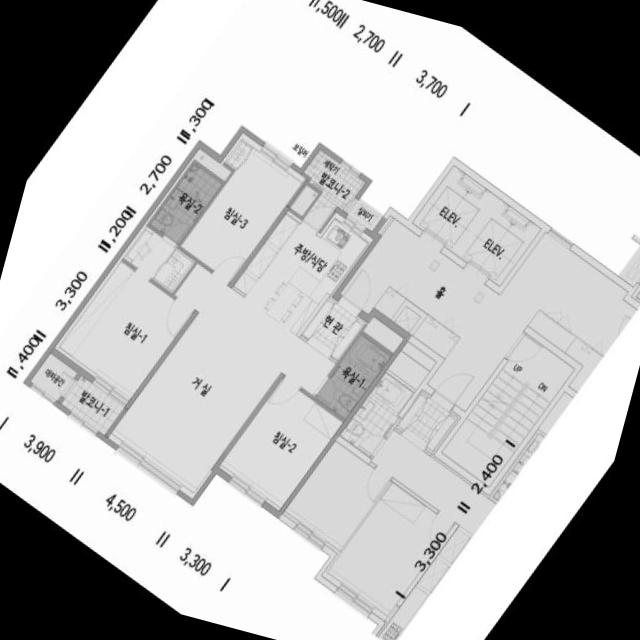background: (0, 0, 640, 640)
space_balconi: (302, 149, 365, 231), (61, 376, 124, 435)
space_bedroom: (54, 260, 191, 402), (180, 133, 305, 282), (218, 379, 342, 511)
space_dressroom: (120, 224, 195, 293)
space_elevator: (412, 166, 540, 286)
space_elevator_hall: (339, 219, 636, 411)
space_front: (300, 299, 362, 361)
space_kitchen: (233, 211, 372, 335)
space_living_room: (107, 263, 335, 499)
space_other: (30, 353, 77, 400), (412, 315, 459, 359), (362, 316, 403, 353), (373, 287, 405, 320), (289, 184, 318, 216), (394, 306, 420, 333)
space_outdoor_room: (347, 199, 382, 231)
space_staircase: (441, 335, 574, 487)
space_toilet: (315, 335, 390, 419), (149, 164, 221, 245)
